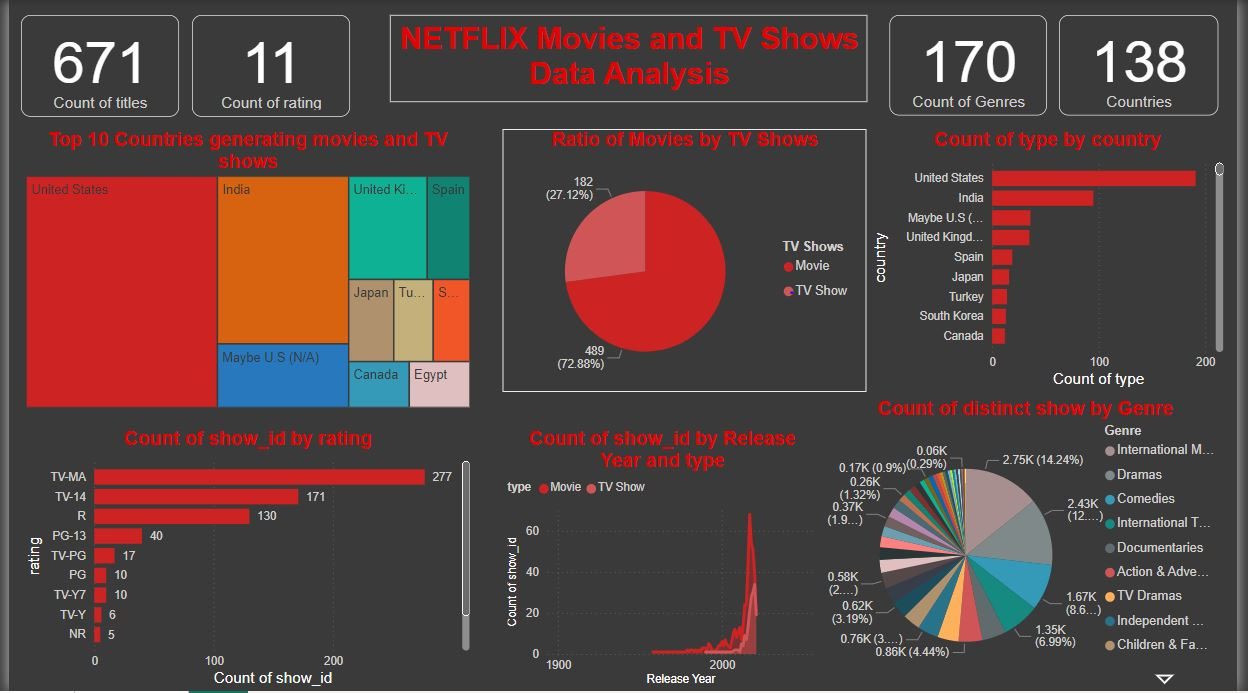

What the dashboard file says about the page in this screenshot:
{"tool":"powerbi","page":{"name":"Page 1","canvas":[1280,720],"ordinal":0},"visuals":[{"type":"pieChart","fields":{"Category":["netflix_titles.type"],"Y":["CountNonNull(netflix_titles.show_id)"]},"box":[514,134.2,379.8,274],"z":0},{"type":"textbox","box":[397,15.6,497,90.7],"z":1000},{"type":"treemap","title":"Top 10 Countries generating movies and TV shows","fields":{"Values":["Count(netflix_titles.show_id)"],"Group":["netflix_titles.country"]},"box":[13.2,134.2,472.4,294.8],"z":2000},{"type":"pieChart","fields":{"Category":["category-mapping.listed_in"],"Y":["CountNonNull(category-mapping.show_id)"]},"box":[846.6,413.9,423.3,306.1],"z":3000},{"type":"barChart","fields":{"Category":["netflix_titles.country"],"Y":["CountNonNull(netflix_titles.type)"]},"box":[893.9,134.2,376.1,274],"z":4000},{"type":"areaChart","fields":{"Category":["netflix_titles.release_year"],"Y":["Count(netflix_titles.show_id)"],"Series":["netflix_titles.type"]},"box":[514,446,332.6,274],"z":5000},{"type":"barChart","fields":{"Category":["netflix_titles.rating"],"Y":["CountNonNull(netflix_titles.show_id)"]},"box":[13.2,446,472.4,274],"z":6000},{"type":"card","fields":{"Values":["CountNonNull(netflix_titles.title)"]},"box":[13.2,15.1,164.4,105.8],"z":7000},{"type":"card","fields":{"Values":["Count(netflix_titles.rating)"]},"box":[190.9,15.1,164.4,105.8],"z":7001},{"type":"card","fields":{"Values":["Count(netflix_titles.listed_in)"]},"box":[917.5,15.6,164.1,104.7],"z":7002},{"type":"card","fields":{"Values":["Count(netflix_titles.country)"]},"box":[1094.1,15.6,165.7,104.7],"z":7003}]}

Visuals, with their boxes in screenshot pixels (x1, y1, x2, y2), scaled from the page's 1280x720 canvas onto the 1248x693 screenshot:
pieChart - netflix_titles.type x CountNonNull(netflix_titles.show_id): pyautogui.locateOnScreen(501, 129, 871, 393)
textbox: pyautogui.locateOnScreen(387, 15, 872, 102)
"Top 10 Countries generating movies and TV shows" treemap: pyautogui.locateOnScreen(13, 129, 473, 413)
pieChart - category-mapping.listed_in x CountNonNull(category-mapping.show_id): pyautogui.locateOnScreen(825, 398, 1238, 692)
barChart - netflix_titles.country x CountNonNull(netflix_titles.type): pyautogui.locateOnScreen(872, 129, 1238, 393)
areaChart - netflix_titles.release_year x Count(netflix_titles.show_id): pyautogui.locateOnScreen(501, 429, 825, 692)
barChart - netflix_titles.rating x CountNonNull(netflix_titles.show_id): pyautogui.locateOnScreen(13, 429, 473, 692)
card - CountNonNull(netflix_titles.title): pyautogui.locateOnScreen(13, 15, 173, 116)
card - Count(netflix_titles.rating): pyautogui.locateOnScreen(186, 15, 346, 116)
card - Count(netflix_titles.listed_in): pyautogui.locateOnScreen(895, 15, 1055, 116)
card - Count(netflix_titles.country): pyautogui.locateOnScreen(1067, 15, 1228, 116)
